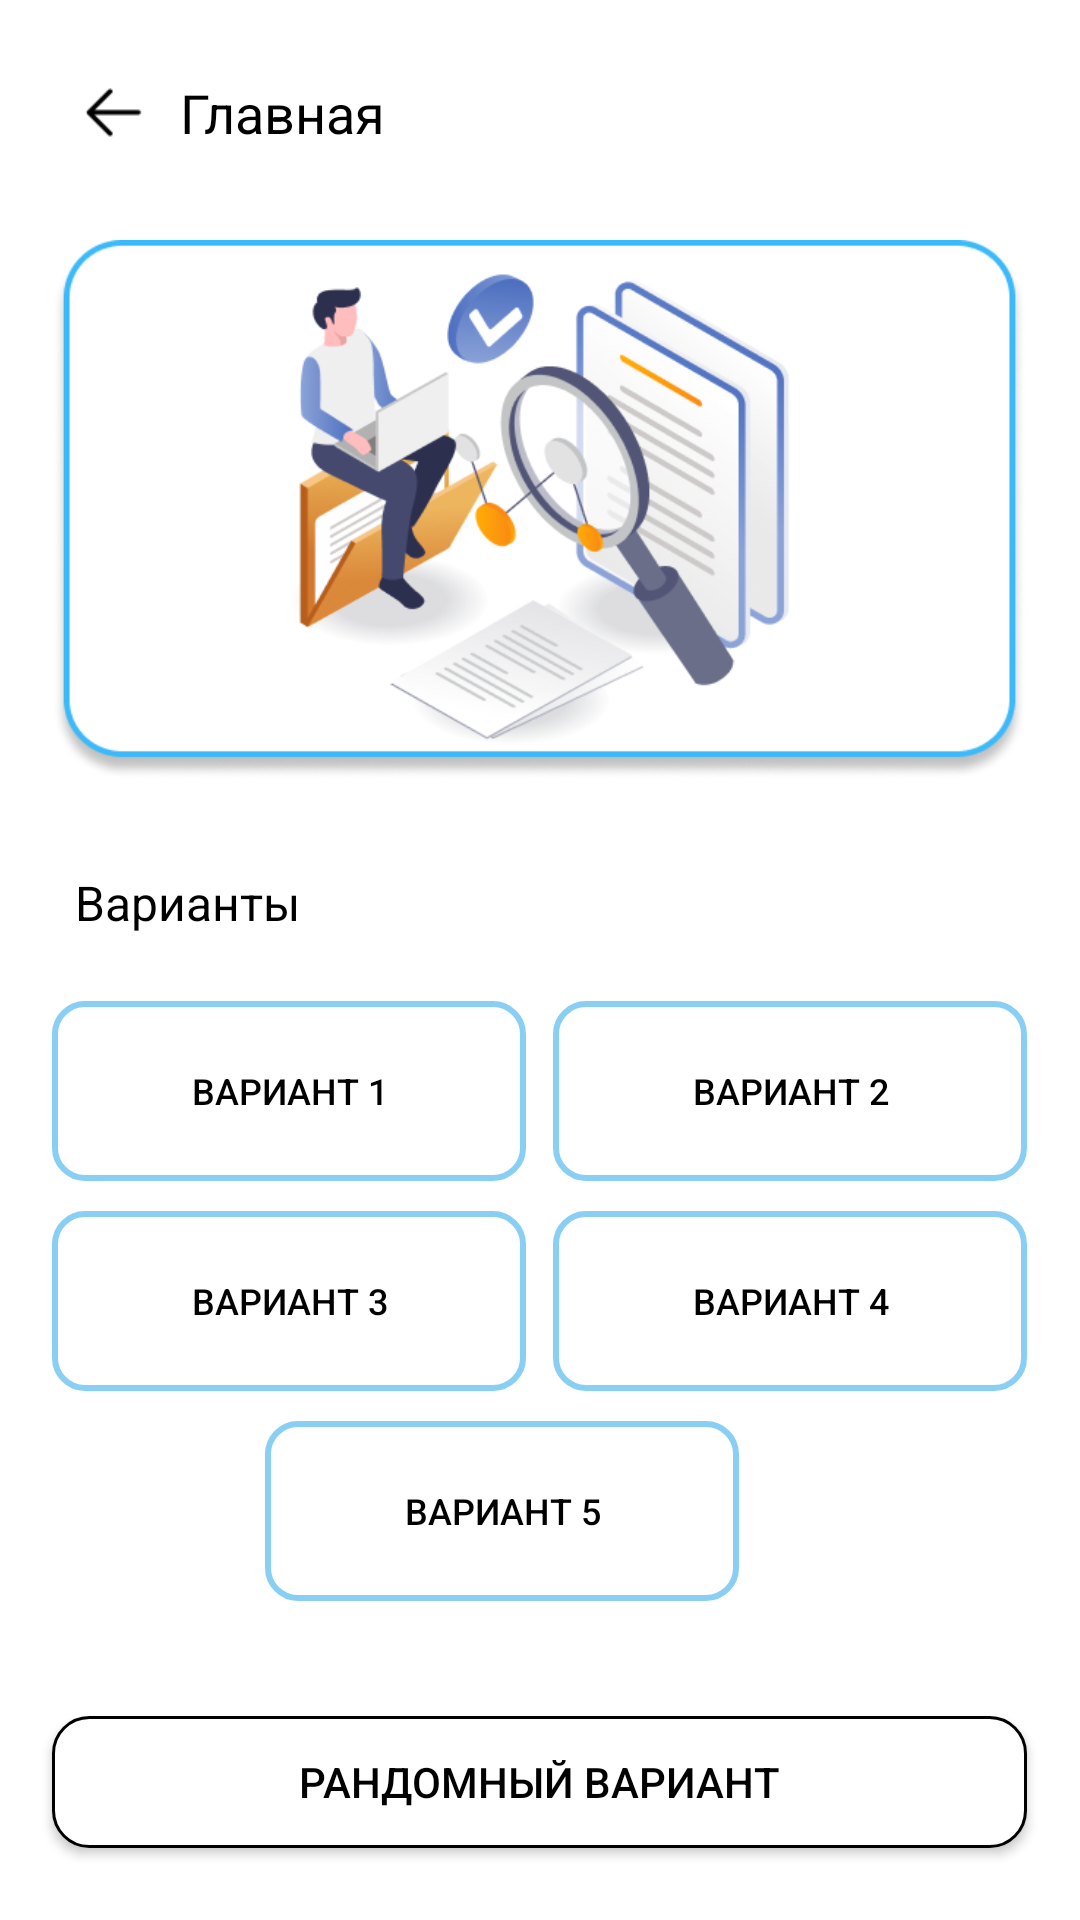

Where to tap for icons on this 1080w x 1920h app screen, as (x,y):
back: (114,112)
